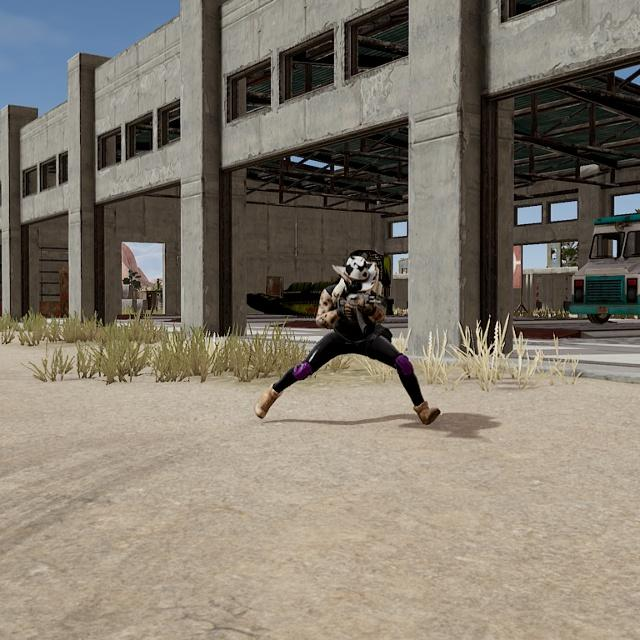head: (338, 253, 372, 297)
people: (279, 249, 445, 427)
